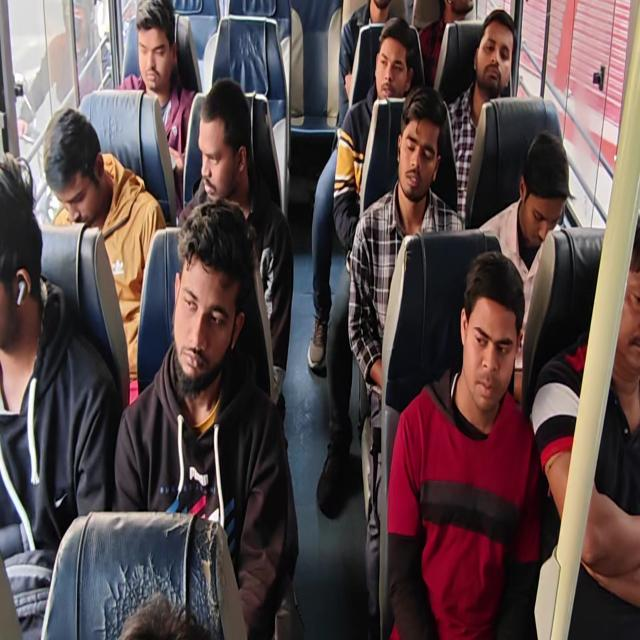person: (1, 1, 638, 638), (112, 199, 303, 638), (347, 84, 464, 636), (386, 250, 543, 638), (0, 151, 121, 638), (310, 16, 419, 519), (530, 212, 639, 638), (177, 77, 294, 427), (43, 107, 167, 404), (478, 130, 570, 403), (332, 17, 418, 270), (115, 0, 198, 209), (445, 8, 517, 225), (16, 0, 111, 136), (337, 0, 410, 127), (418, 0, 474, 88), (118, 591, 213, 639)
